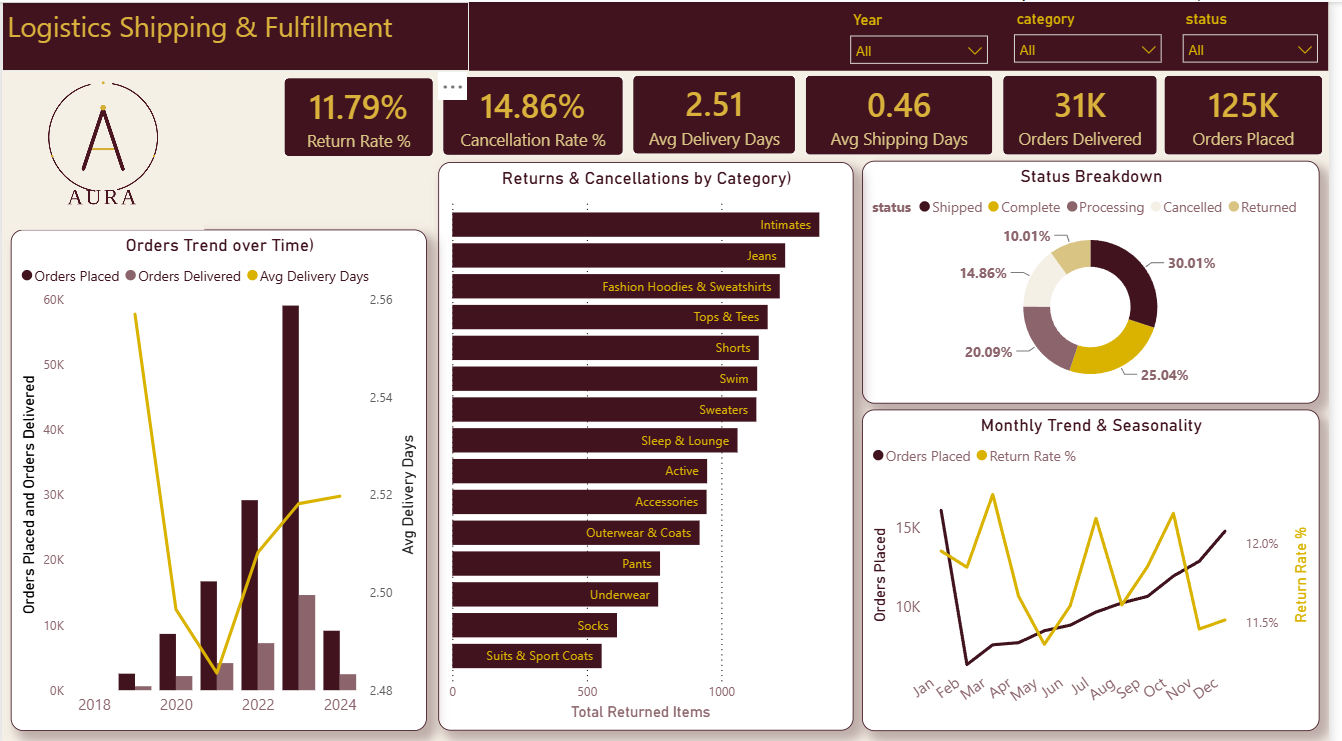

The page's visual inventory and layout, read from the dashboard file:
{"tool":"powerbi","page":{"name":"Logistics Shipping & Fulfillment","canvas":[1280,720],"ordinal":3},"visuals":[{"type":"cardVisual","fields":{"Data":["Key_Measures.Return Rate %"]},"box":[267.8,68.8,153.2,85.7],"z":0},{"type":"cardVisual","fields":{"Data":["Key_Measures.Cancellation Rate %"]},"box":[421,67.6,183.4,85.7],"z":1000},{"type":"cardVisual","fields":{"Data":["Key_Measures.Avg Delivery Days"]},"box":[604.4,66.4,166.5,85.7],"z":2000},{"type":"cardVisual","fields":{"Data":["Key_Measures.Avg Shipping Days"]},"box":[770.9,66.4,190.6,86.9],"z":3000},{"type":"cardVisual","fields":{"Data":["Key_Measures.Orders Delivered"]},"box":[961.5,66.4,158,86.9],"z":4000},{"type":"cardVisual","fields":{"Data":["Key_Measures.Orders Placed"]},"box":[1117.2,66.4,162.9,86.9],"z":5000},{"type":"shape","box":[0,0,1280,66.4],"z":6000},{"type":"donutChart","title":"Status Breakdown","fields":{"Category":["Fact_Orders.status"],"Y":["Key_Measures.Total Orders"]},"box":[830,153.2,441.6,234],"z":7000},{"type":"clusteredBarChart","title":"Returns & Cancellations by Category)","fields":{"Category":["Dim_Products.category"],"Y":["Key_Measures.Total Returned Items"]},"box":[421,154.4,400.5,548.9],"z":8000},{"type":"lineClusteredColumnComboChart","title":"Orders Trend over Time)","fields":{"Y2":["Key_Measures.Avg Delivery Days"],"Category":["Dim_Date.Year"],"Y":["Key_Measures.Orders Placed","Key_Measures.Orders Delivered"]},"box":[8.4,219.6,401.7,483.8],"z":9000},{"type":"lineChart","title":"Monthly Trend & Seasonality","fields":{"Category":["Dim_Date.Month Name"],"Y":["Key_Measures.Orders Placed"],"Y2":["Key_Measures.Return Rate %"]},"box":[830,393.3,441.6,310.1],"z":10000},{"type":"textbox","box":[0,0,450,66.4],"z":11000},{"type":"slicer","fields":{"Values":["Dim_Date.Year"]},"box":[808.3,3.6,153.2,63.9],"z":12000},{"type":"slicer","fields":{"Values":["Dim_Products.category"]},"box":[966.4,2.4,162.9,63.9],"z":13000},{"type":"slicer","fields":{"Values":["Fact_Orders.status"]},"box":[1129.2,2.4,150.8,63.9],"z":14000},{"type":"image","box":[0,68.8,195.4,150.8],"z":15000}]}

Visuals, with their boxes in screenshot pixels (x1, y1, x2, y2), scaled from the page's 1280x720 canvas onto the 1342x741 screenshot:
cardVisual - Key_Measures.Return Rate %: left=281, top=71, right=441, bottom=159
cardVisual - Key_Measures.Cancellation Rate %: left=441, top=70, right=634, bottom=158
cardVisual - Key_Measures.Avg Delivery Days: left=634, top=68, right=808, bottom=157
cardVisual - Key_Measures.Avg Shipping Days: left=808, top=68, right=1008, bottom=158
cardVisual - Key_Measures.Orders Delivered: left=1008, top=68, right=1174, bottom=158
cardVisual - Key_Measures.Orders Placed: left=1171, top=68, right=1341, bottom=158
shape: left=0, top=0, right=1341, bottom=68
"Status Breakdown" donutChart: left=870, top=158, right=1333, bottom=398
"Returns & Cancellations by Category)" clusteredBarChart: left=441, top=159, right=861, bottom=724
"Orders Trend over Time)" lineClusteredColumnComboChart: left=9, top=226, right=430, bottom=724
"Monthly Trend & Seasonality" lineChart: left=870, top=405, right=1333, bottom=724
textbox: left=0, top=0, right=472, bottom=68
slicer - Dim_Date.Year: left=847, top=4, right=1008, bottom=69
slicer - Dim_Products.category: left=1013, top=2, right=1184, bottom=68
slicer - Fact_Orders.status: left=1184, top=2, right=1341, bottom=68
image: left=0, top=71, right=205, bottom=226
